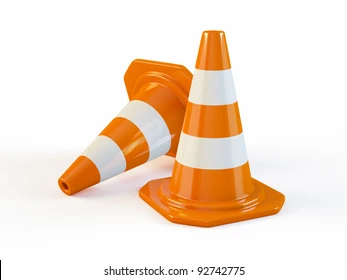cones: (143, 29, 286, 225), (54, 55, 188, 190)
